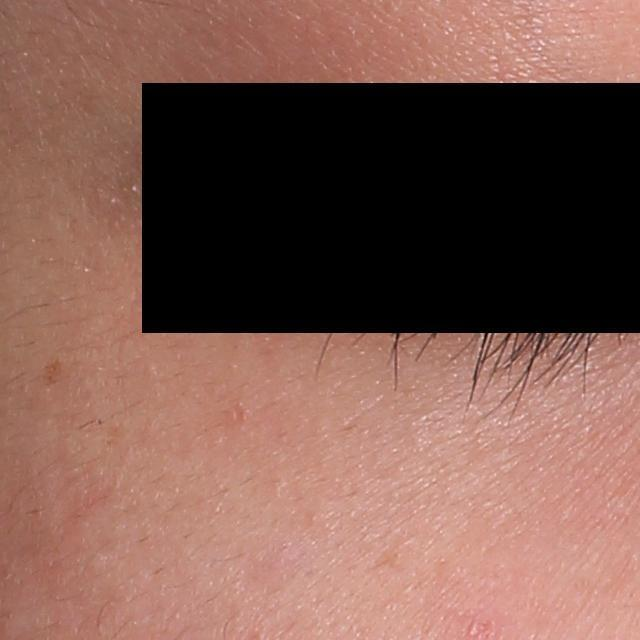melasma: (35, 354, 68, 391)
